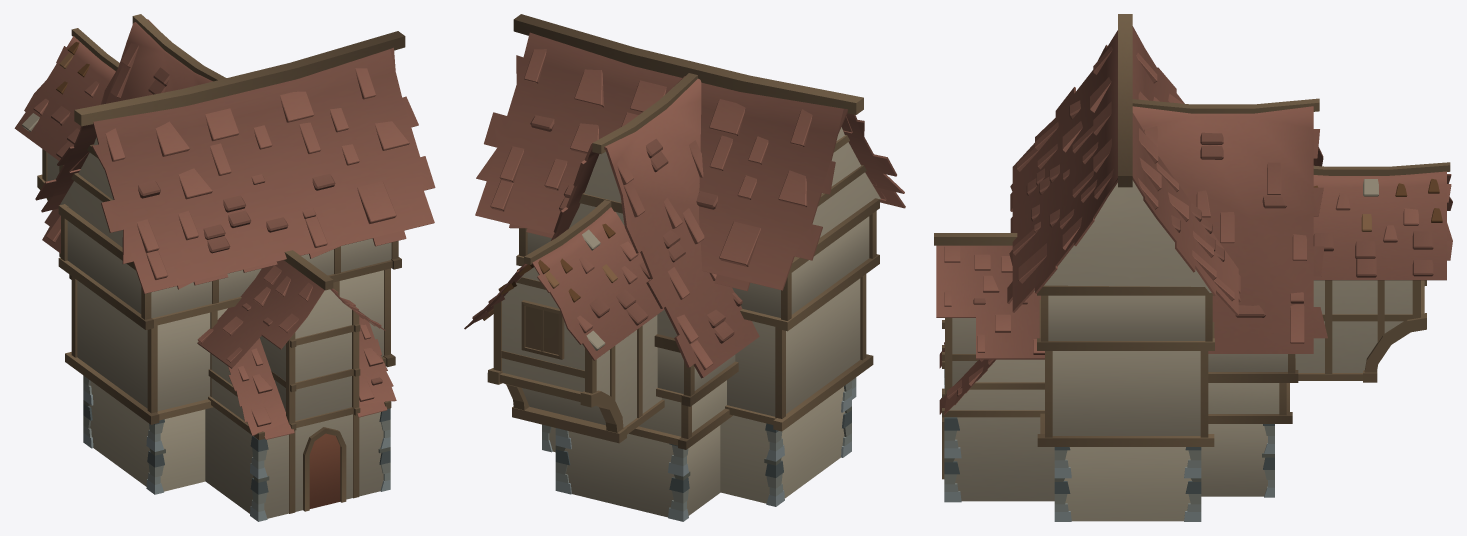
Rendered from ZLP_Build_B_5.FBX.
The picture shows the model from 3 angles, left to right: view 1: azimuth 30°, elevation 25°; view 2: azimuth 150°, elevation 25°; view 3: azimuth 270°, elevation 25°; orthographic projection. The views are drawn at different scales.
Visible parts, largest first — view 1: ZLP_Build_B_5; view 2: ZLP_Build_B_5; view 3: ZLP_Build_B_5.
Part boxes in pixels (x1=…): ZLP_Build_B_5: x1=14, y1=14, x2=435, y2=521; ZLP_Build_B_5: x1=464, y1=14, x2=905, y2=521; ZLP_Build_B_5: x1=934, y1=14, x2=1452, y2=521.
Bounding box in the file's own units: 935 × 1011 × 1262.
